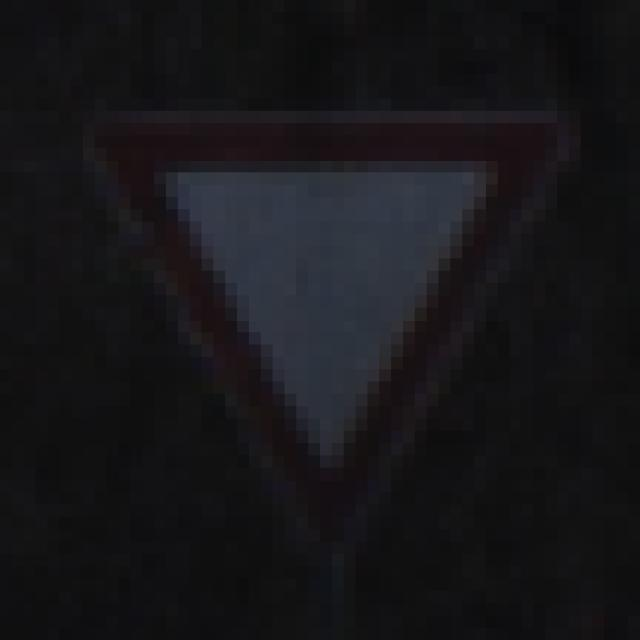Give Way: (60, 75, 582, 579)
